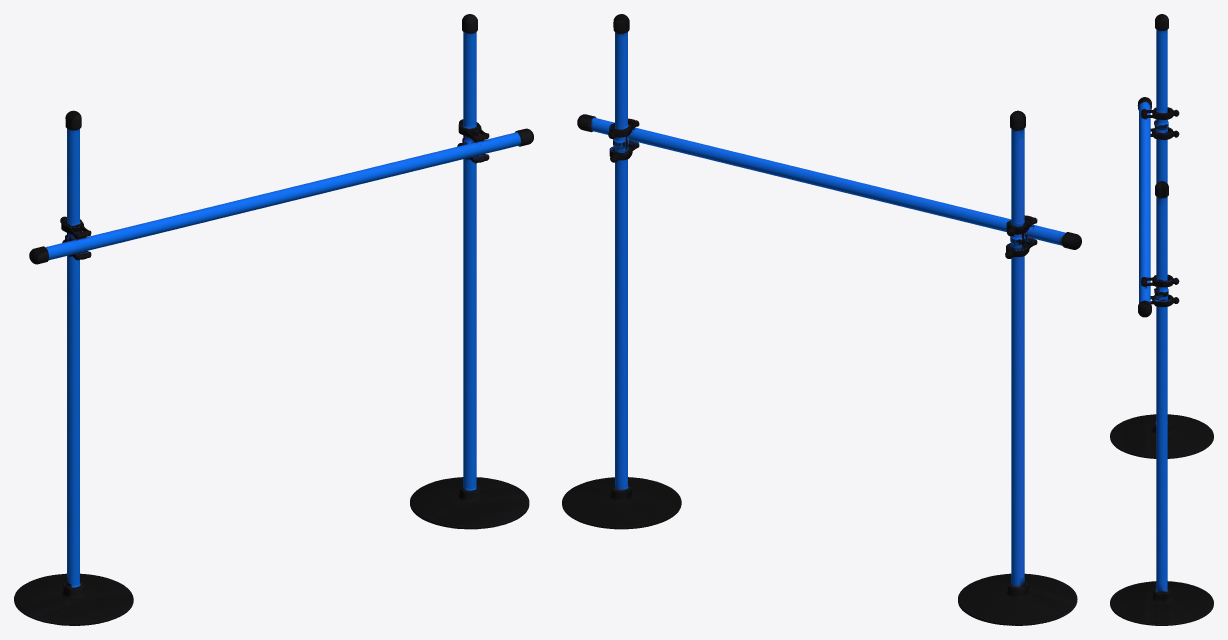
Rendered from poles down.glb.
3 renders of one model, left to right at view 1: azimuth 30°, elevation 25°; view 2: azimuth 150°, elevation 25°; view 3: azimuth 270°, elevation 25°, orthographic. The views are drawn at different scales.
Bounding box in the file's own units: 1.9 × 1.77 × 0.3943.
1 material, 1 textured.
